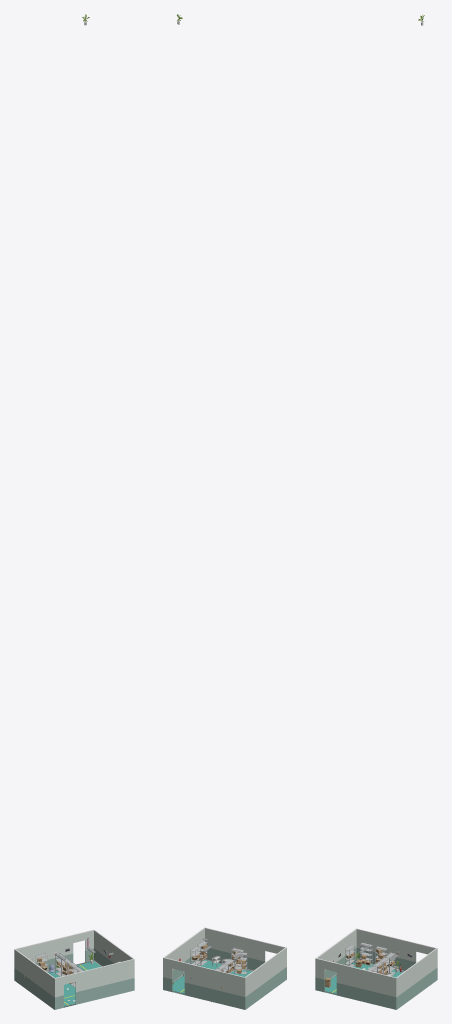
Rendered from sala_puzzle_llave_1_FIXED.fbx.
The picture shows the model from 3 angles, left to right: view 1: azimuth 30°, elevation 25°; view 2: azimuth 150°, elevation 25°; view 3: azimuth 330°, elevation 25°; orthographic projection. The views are drawn at different scales.
Parts seen in each view (by area): view 1: PSur_A_der_sup, PNorte_B_izq_sup, POeste_sup, PSur_A_der_inf, PEste_sup, POeste_inf, Piso, Estante_Metal_06; view 2: PNorte_B_izq_sup, PSur_A_der_sup, POeste_sup, PNorte_B_izq_inf, POeste_inf, PEste_sup, PSur_A_der_inf, Piso; view 3: PSur_A_der_sup, PNorte_B_izq_sup, PEste_sup, PSur_A_der_inf, PEste_inf, POeste_sup, PNorte_B_izq_inf, Estante_Metal_06.
Part boxes in pixels (x1,y1,x2,y2): PSur_A_der_sup: [75, 959, 134, 992]; PNorte_B_izq_sup: [15, 934, 73, 962]; POeste_sup: [14, 949, 54, 997]; PSur_A_der_inf: [75, 978, 134, 1004]; PEste_sup: [94, 930, 133, 963]; POeste_inf: [14, 968, 54, 1009]; Piso: [48, 961, 100, 1007]; Estante_Metal_06: [55, 953, 83, 987]; PNorte_B_izq_sup: [184, 963, 245, 996]; PSur_A_der_sup: [205, 927, 265, 961]; POeste_sup: [245, 947, 286, 996]; PNorte_B_izq_inf: [184, 982, 245, 1009]; POeste_inf: [245, 967, 286, 1009]; PEste_sup: [163, 927, 204, 976]; PSur_A_der_inf: [205, 948, 265, 970]; Piso: [172, 960, 252, 994]; PSur_A_der_sup: [336, 963, 396, 997]; PNorte_B_izq_sup: [356, 928, 416, 961]; PEste_sup: [396, 948, 437, 996]; PSur_A_der_inf: [336, 983, 396, 1009]; PEste_inf: [396, 967, 437, 1009]; POeste_sup: [315, 929, 356, 970]; PNorte_B_izq_inf: [356, 948, 416, 970]; Estante_Metal_06: [367, 952, 395, 976].
Size of the model in its own units: 806 by 9140 by 709.
48 materials, 9 textured.
